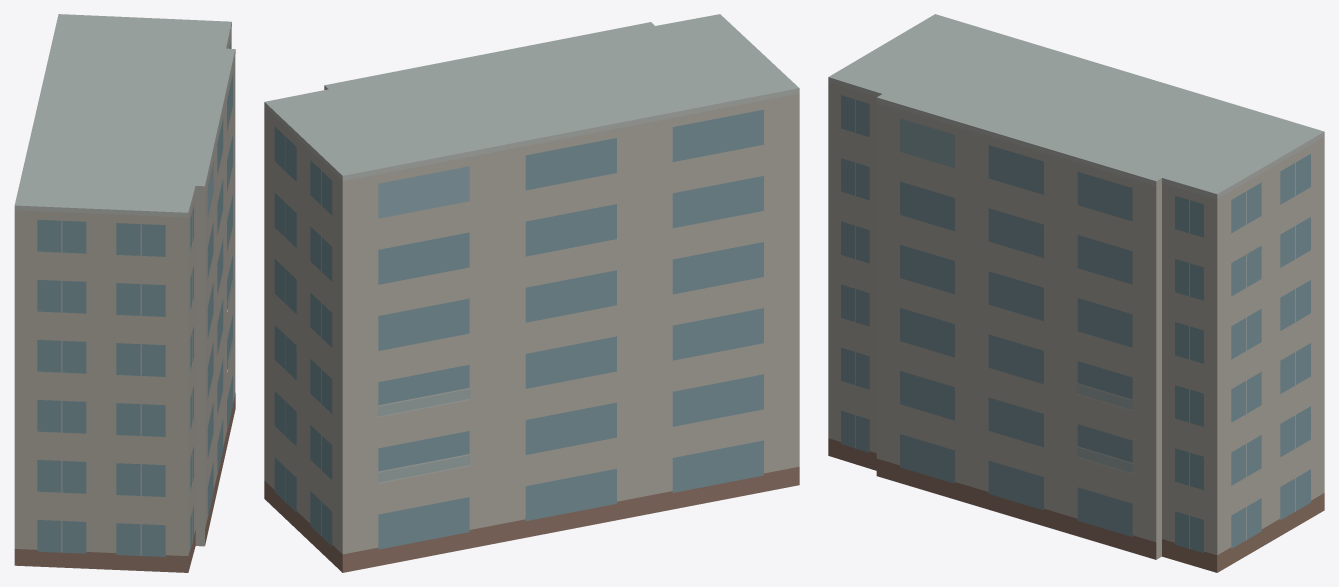
File: survey-upis-32554518.glb
The picture shows the model from 3 angles, left to right: view 1: azimuth 30°, elevation 25°; view 2: azimuth 150°, elevation 25°; view 3: azimuth 270°, elevation 25°; orthographic projection. The views are drawn at different scales.
Parts seen in each view (by area): view 1: survey-upis-32554518.tmp; view 2: survey-upis-32554518.tmp; view 3: survey-upis-32554518.tmp.
Part boxes in pixels (bbox=[...]): survey-upis-32554518.tmp: bbox=[14, 14, 235, 572]; survey-upis-32554518.tmp: bbox=[264, 14, 799, 572]; survey-upis-32554518.tmp: bbox=[828, 14, 1324, 572].
Size of the model in its own units: 18.69 by 18.3 by 21.75.
